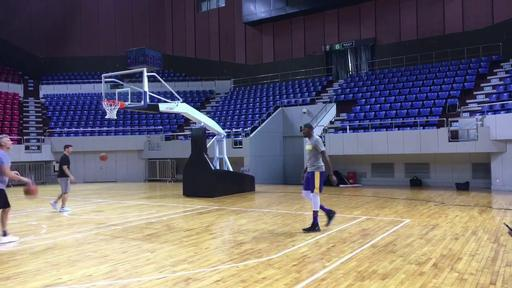ball: (24, 185, 37, 197), (100, 153, 108, 160)
human: (302, 124, 338, 233), (1, 135, 32, 243), (50, 144, 74, 212)
rim: (102, 100, 126, 118)
